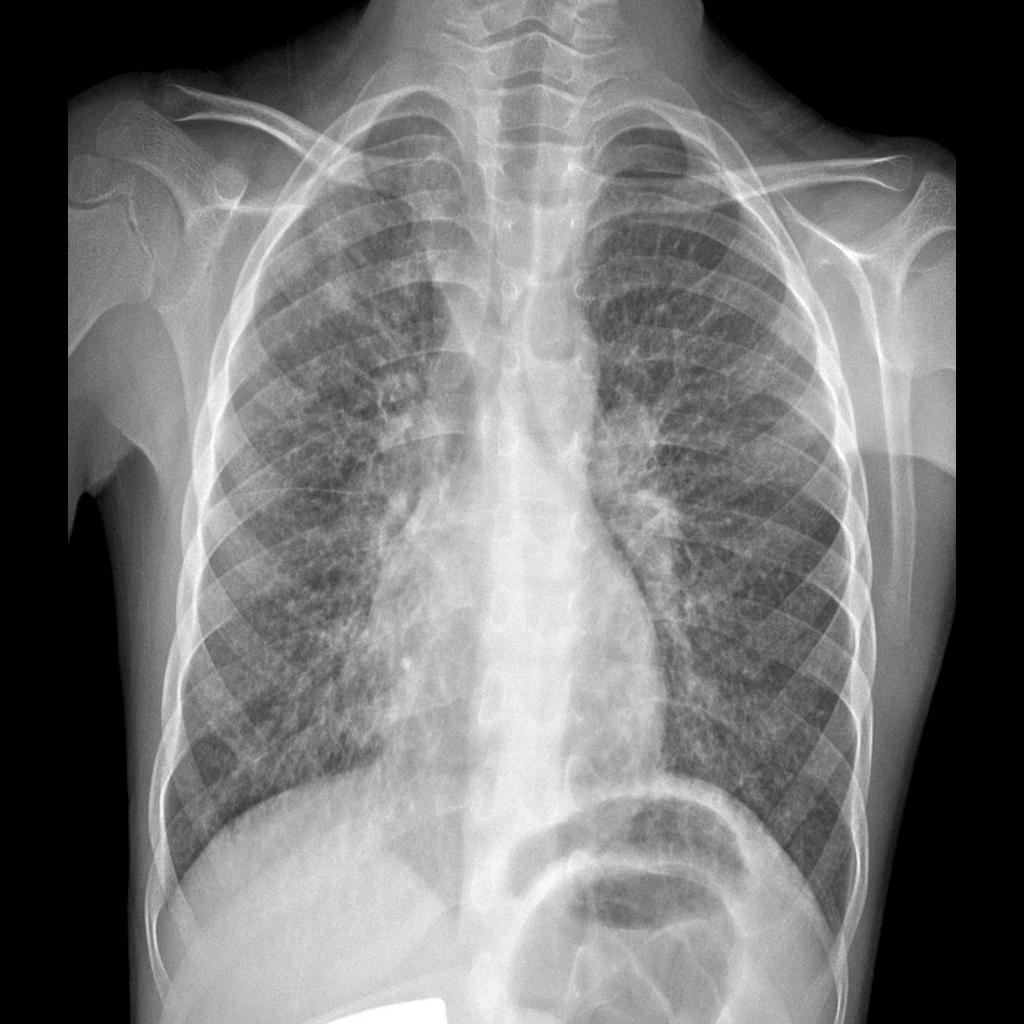Nodule: (316, 274, 366, 322)
